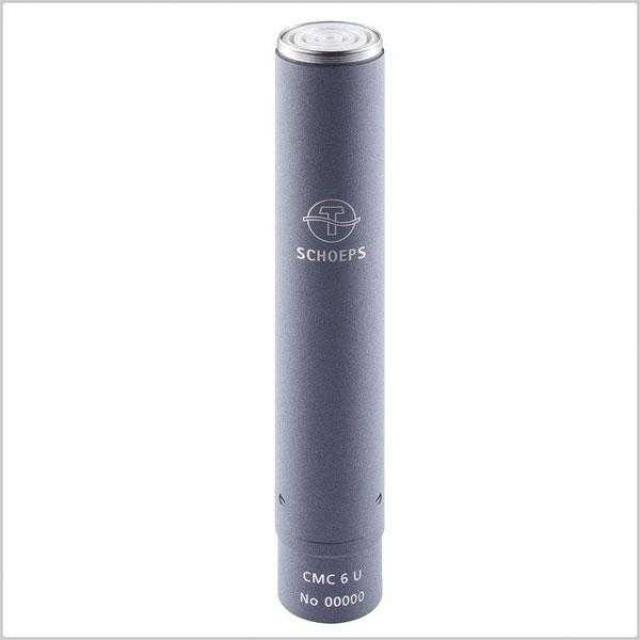microphone: (273, 32, 386, 621)
